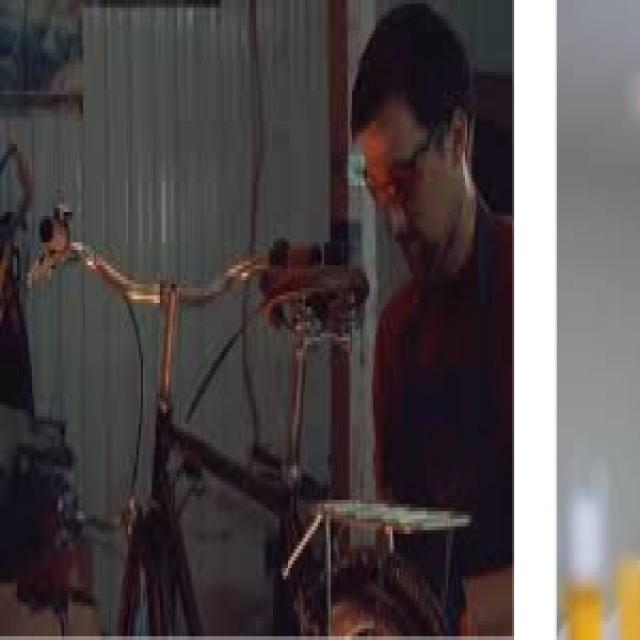glasses: (338, 153, 442, 220)
